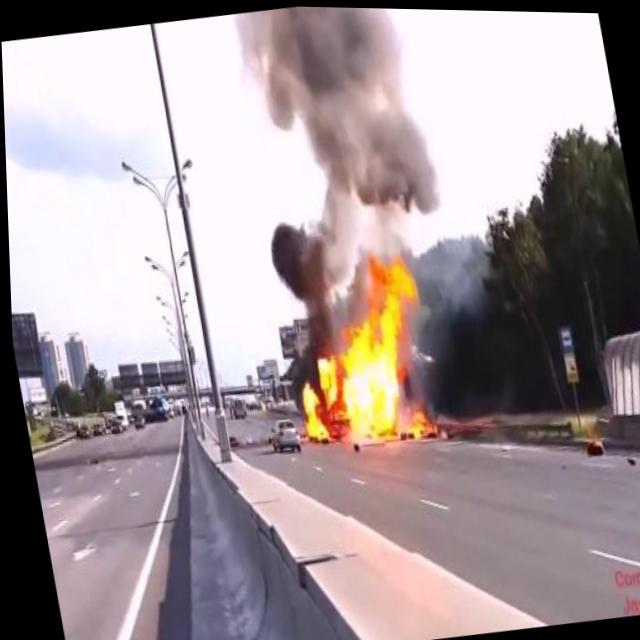fire: (272, 247, 442, 451)
